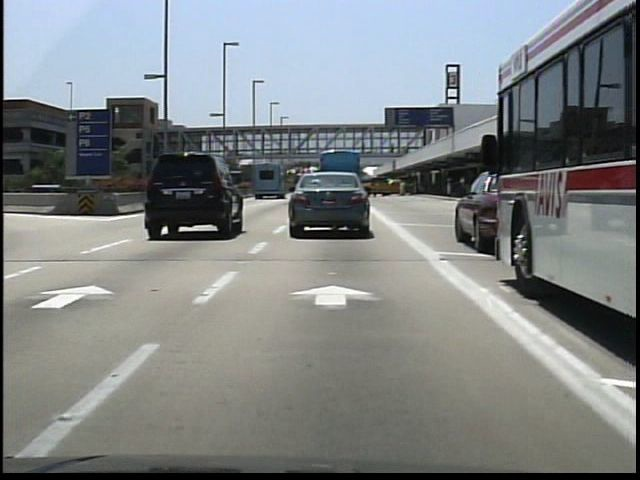person: (396, 176, 410, 199), (386, 136, 399, 158), (357, 137, 370, 157)
